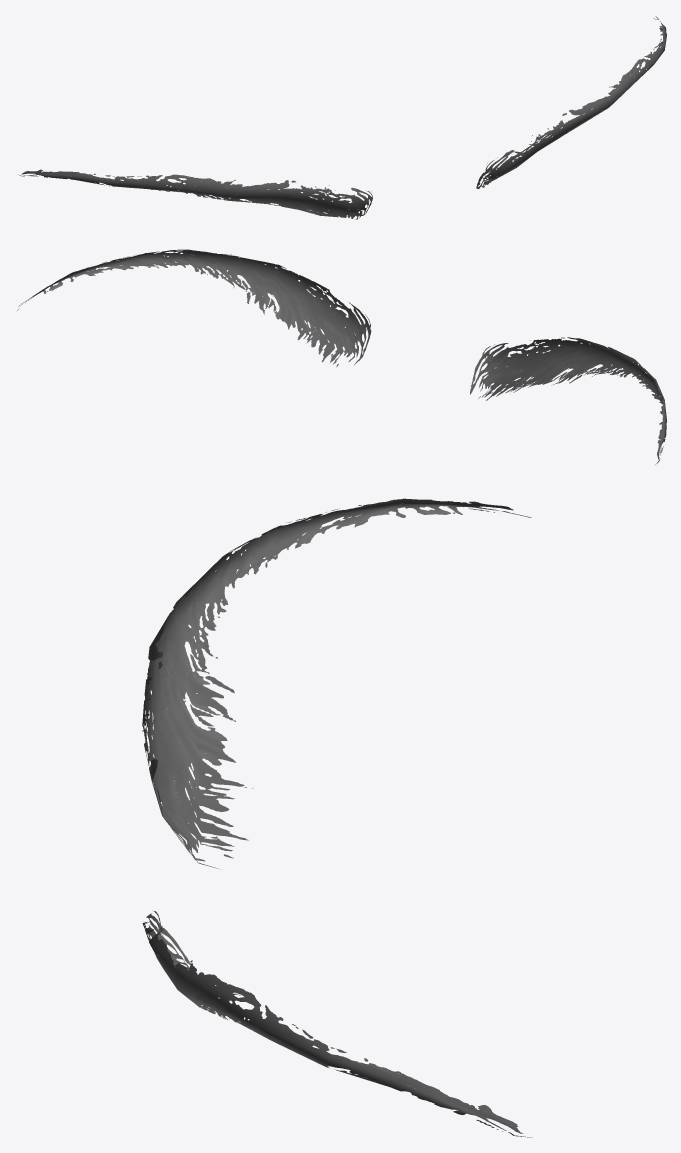
The model's file is brow004.glb.
3 views of the same model, one above another, from view 1: azimuth 30°, elevation 25°; view 2: azimuth 150°, elevation 25°; view 3: azimuth 270°, elevation 25° (orthographic). The views are drawn at different scales.
Parts seen in each view (by area): view 1: editor_brow004; view 2: editor_brow004; view 3: editor_brow004.
Boxes of the visible parts, <box> form: editor_brow004: <box>18,16,666,219</box>; editor_brow004: <box>17,249,666,464</box>; editor_brow004: <box>142,498,532,1137</box>.
Size of the model in its own units: 0.1066 by 0.0137 by 0.0287.
Materials: 1 (1 with a texture image).
